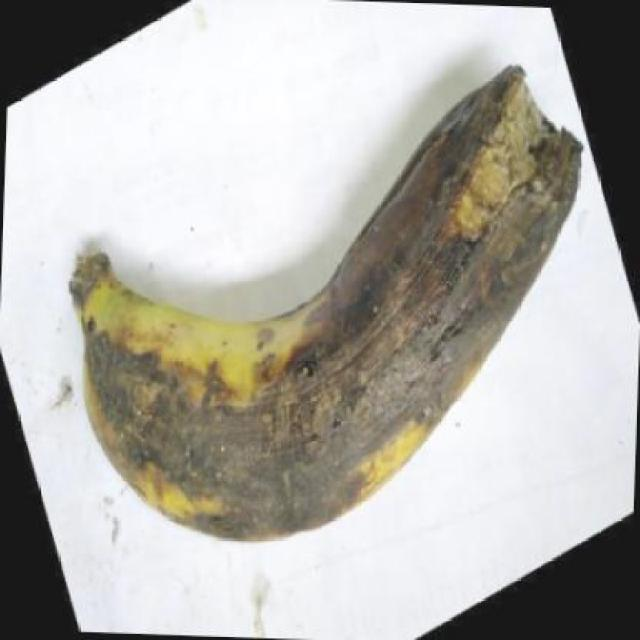Rotten: (55, 41, 602, 573)
